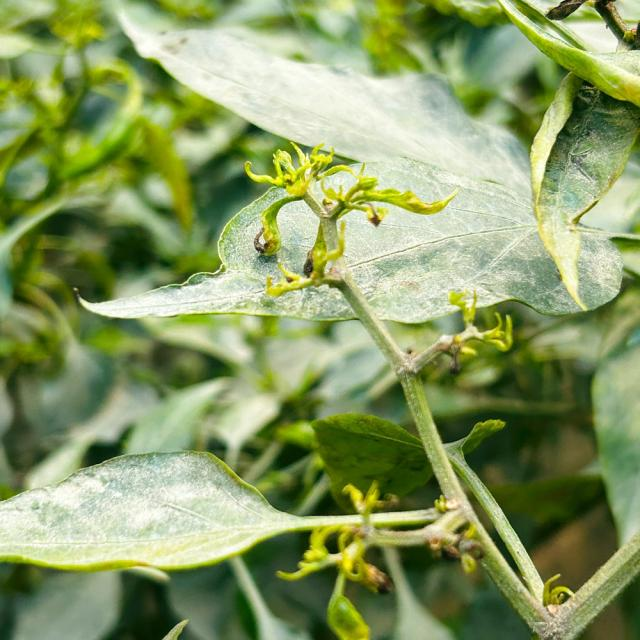Chilli_Leaf_Curl: (2, 1, 638, 638), (74, 2, 638, 326), (74, 140, 464, 322), (1, 448, 467, 574), (238, 139, 459, 299), (528, 69, 638, 312), (308, 411, 506, 513), (496, 0, 638, 108)
